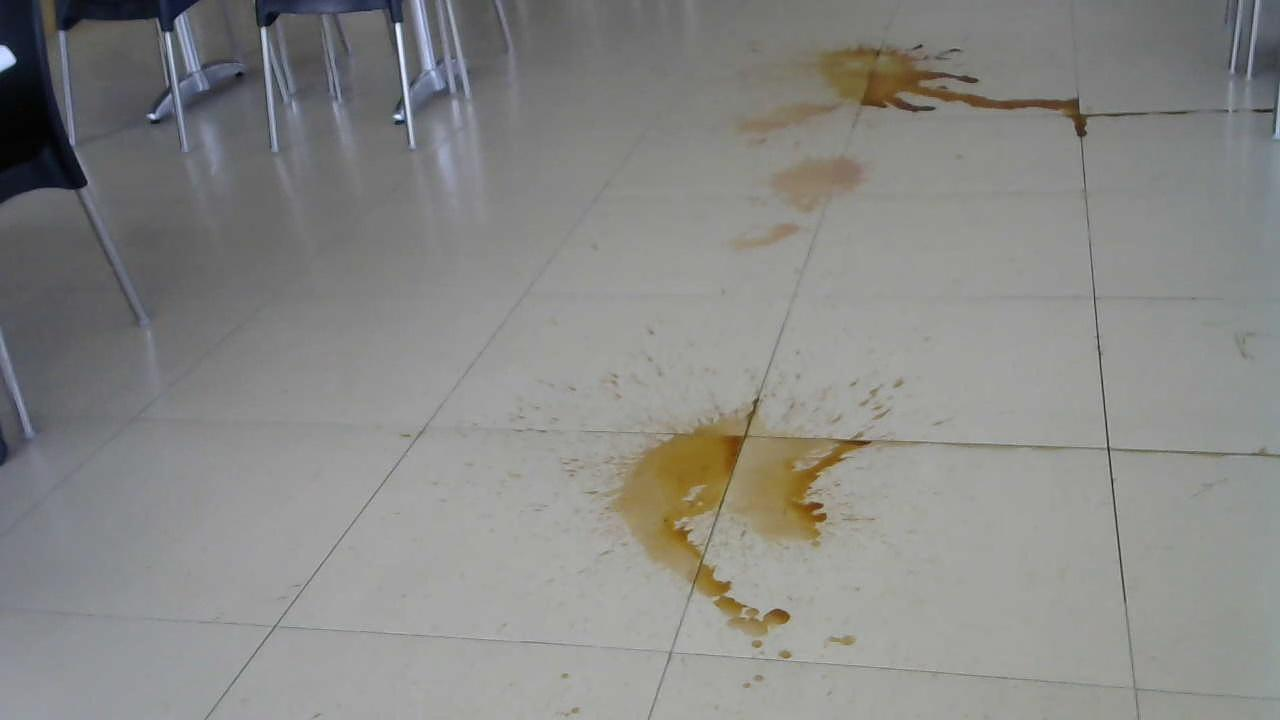dirty_floor: (578, 387, 885, 663), (811, 42, 1094, 140), (720, 152, 869, 251), (727, 99, 838, 136)
